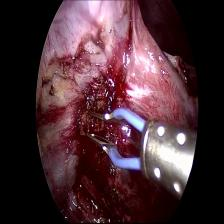Bipolar: (82, 105, 201, 200)
